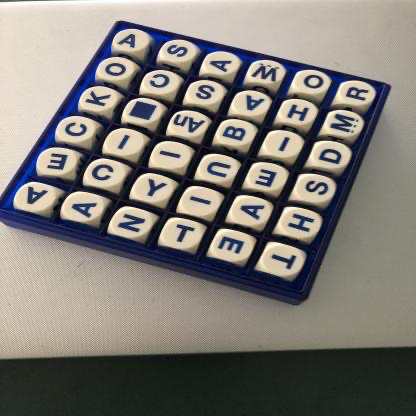a: (63, 193, 107, 224), (231, 197, 274, 227), (15, 183, 58, 213), (232, 91, 272, 118), (203, 51, 241, 79), (113, 28, 151, 53)
an: (170, 111, 210, 139)
b: (217, 120, 257, 148)
c: (85, 160, 129, 189), (58, 116, 99, 144), (143, 70, 183, 96)
d: (312, 142, 353, 169)
e: (212, 231, 255, 263), (248, 164, 289, 193), (37, 148, 79, 176)
h: (280, 209, 322, 240), (280, 99, 321, 125)
i: (180, 187, 222, 218), (105, 129, 148, 158), (151, 141, 193, 170), (263, 132, 304, 158)
k: (79, 86, 120, 113)
m: (325, 110, 366, 138)
n: (111, 208, 155, 240)
o: (293, 70, 332, 96), (97, 57, 136, 82)
r: (339, 81, 379, 107)
s: (295, 175, 338, 205), (189, 81, 227, 107), (161, 41, 198, 65)
t: (260, 245, 307, 278), (163, 220, 205, 251)
u: (200, 155, 241, 183)
w: (248, 60, 286, 87)
wild: (124, 98, 163, 126)
y: (134, 174, 176, 205)
